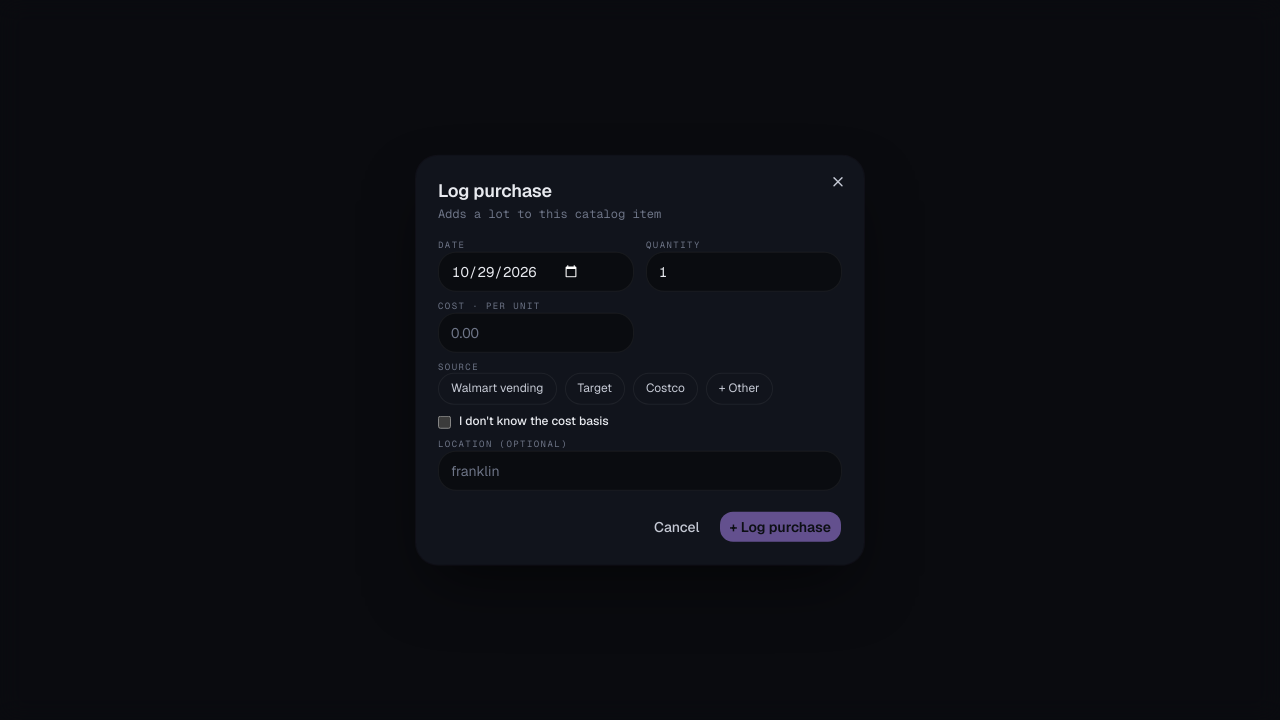
Test: <AddPurchaseDialog> › checking the box disables the cost field and shows helper text
Click the checkbox labelled "I don't know the cost basis". click: (444, 422)
box: [438,415,451,428]
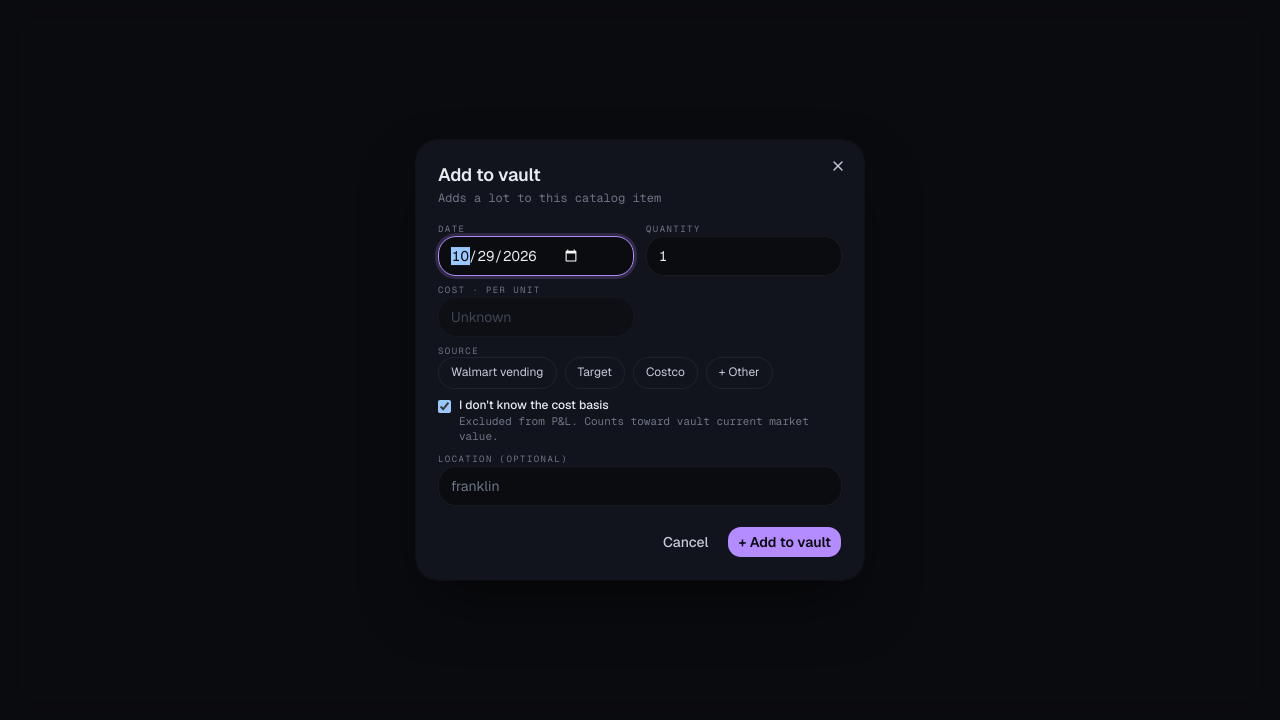
Expected: the number field named "Cost" is disabled, [438,297,634,337]
Expected: the text "Excluded from P&L. Counts toward vault current market value." is shown, [459,414,842,445]
